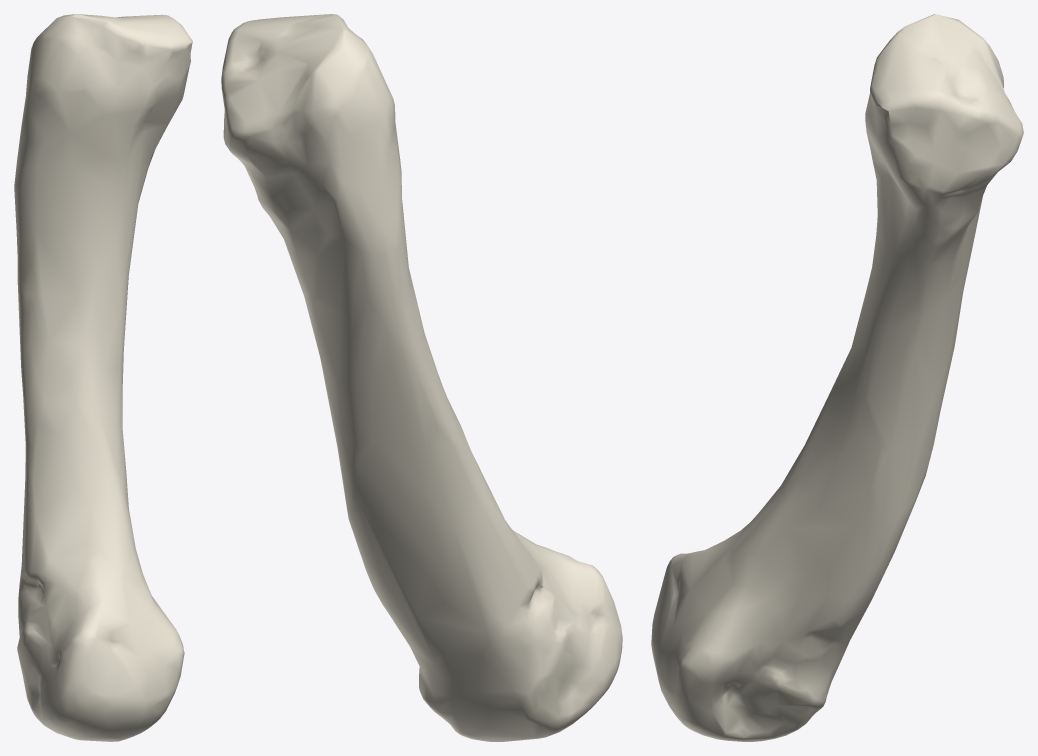
File: fma24473.glb
3 views of the same model, side by side, from view 1: azimuth 30°, elevation 25°; view 2: azimuth 150°, elevation 25°; view 3: azimuth 270°, elevation 25° (orthographic). The views are drawn at different scales.
Parts seen in each view (by area): view 1: FMA24473; view 2: FMA24473; view 3: FMA24473.
Part boxes in pixels (box(x1,y1,x2,y2)): FMA24473: box(14, 14, 192, 741); FMA24473: box(221, 14, 622, 741); FMA24473: box(651, 14, 1023, 741).
Size of the model in its own units: 0.0203 by 0.0551 by 0.0247.
